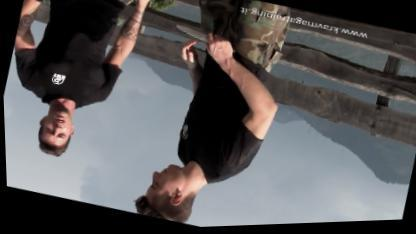knife: (167, 18, 240, 59)
